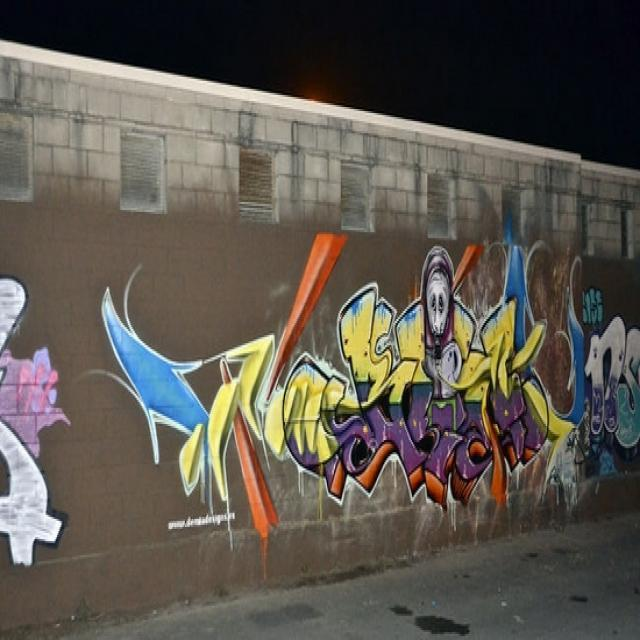-: (104, 227, 640, 527), (0, 270, 66, 563)
